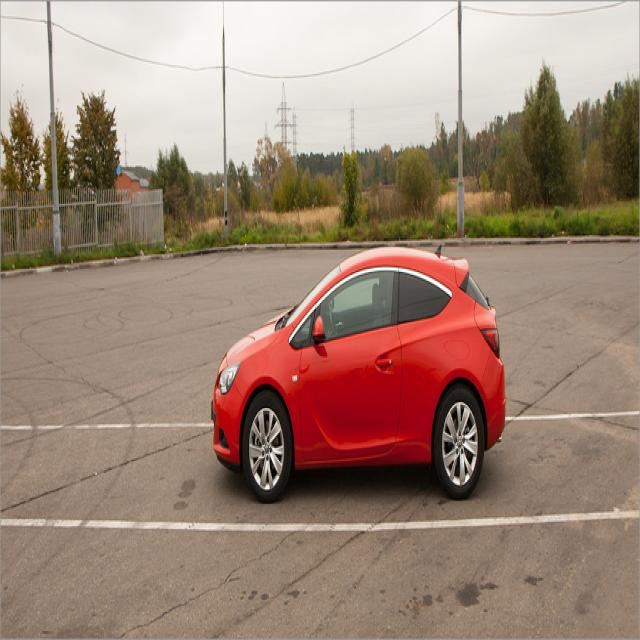car: (209, 238, 504, 500)
